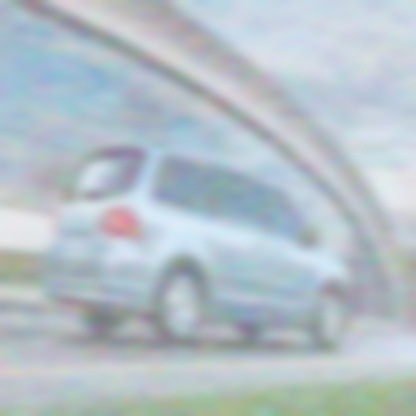Vehicle: (42, 138, 354, 354)
